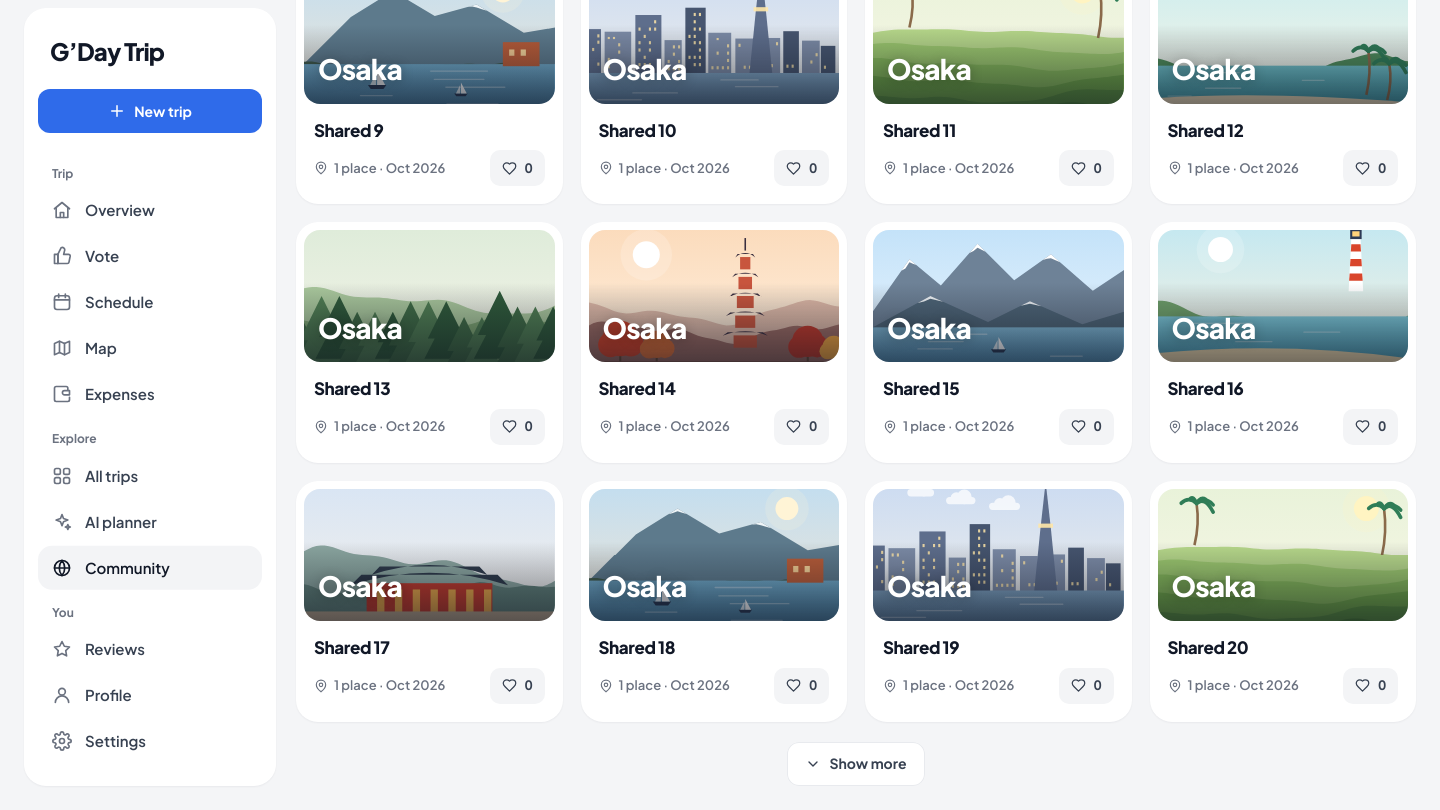
Scenario: Bugs found in the frontend scan › Community shows more than the first 20 shared trips on request
(page scrolled)
Expected: the navigation bar with id "auth" is shown, [38, 545, 262, 589]
Step 1. Click the button "Show more" → (856, 764), box [788, 742, 925, 786]
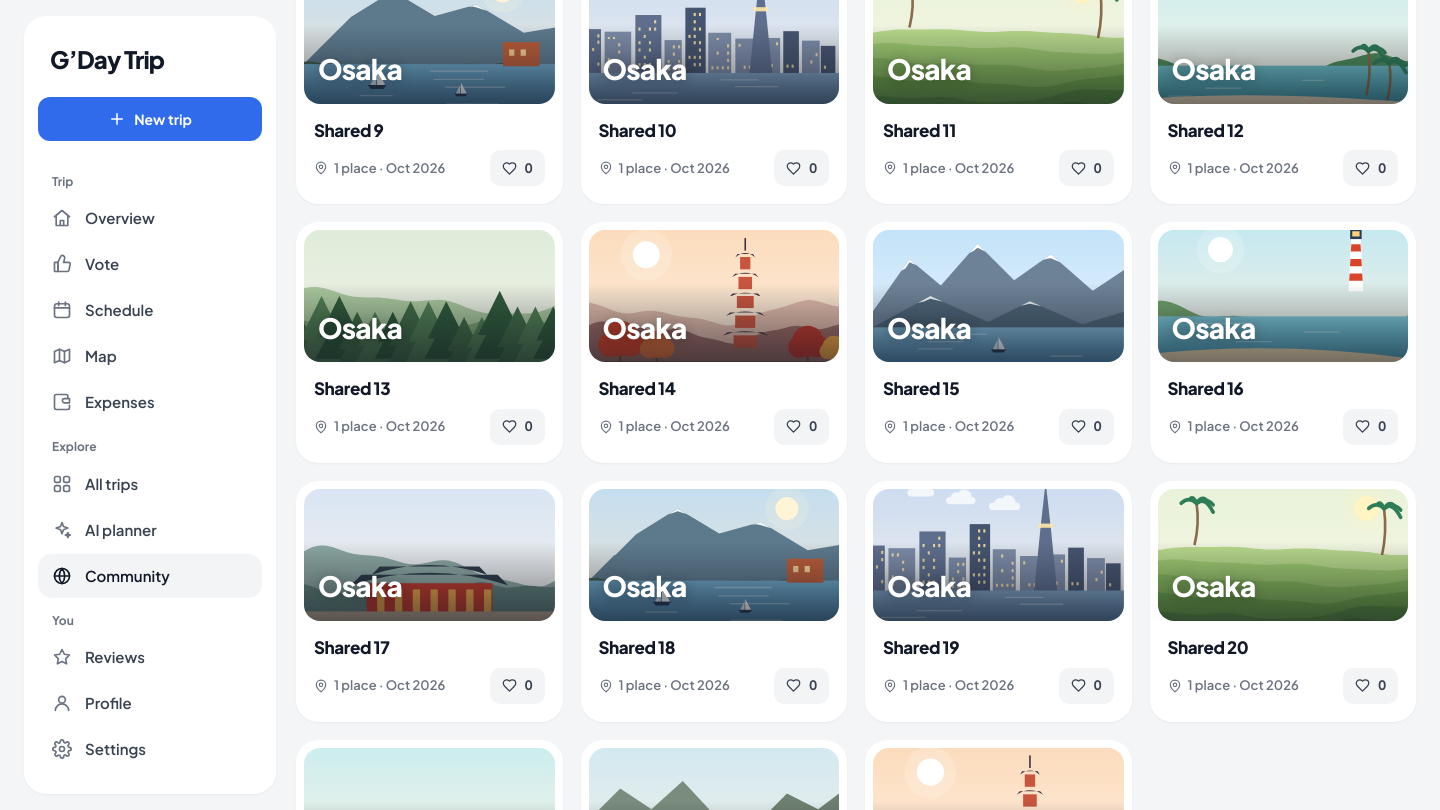
Expected: the button "Show more" is gone
